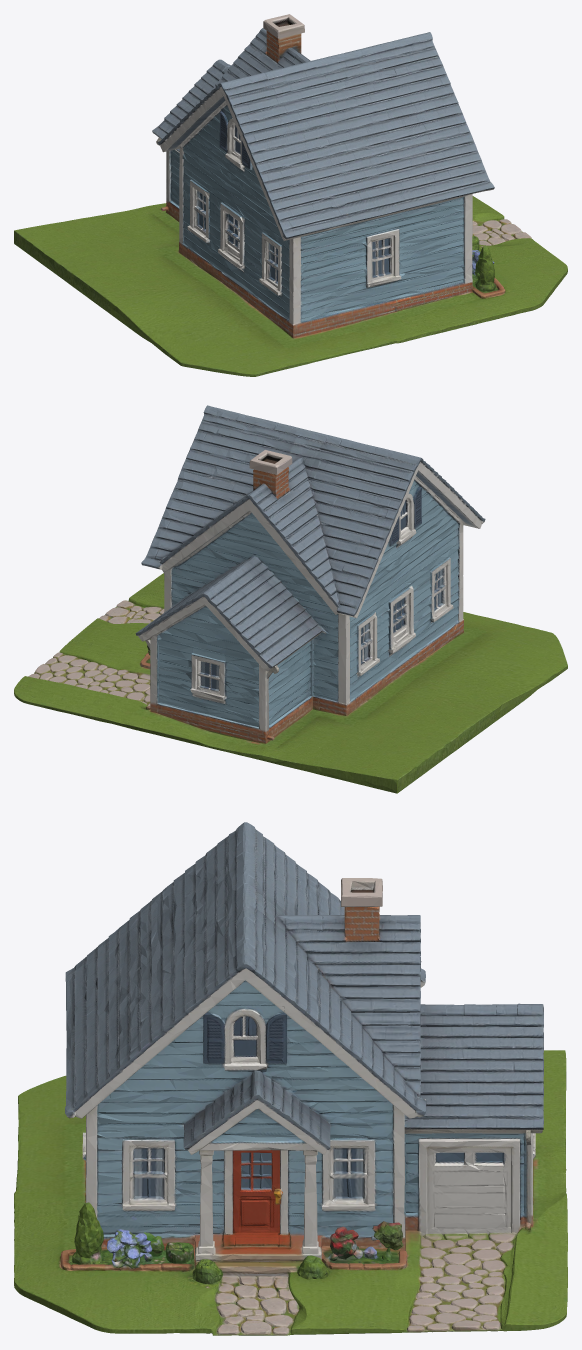
The model's file is house_h.glb.
The picture shows the model from 3 angles, top to bottom: view 1: azimuth 30°, elevation 25°; view 2: azimuth 150°, elevation 25°; view 3: azimuth 270°, elevation 25°; orthographic projection. The views are drawn at different scales.
Visible parts, largest first — view 1: tripo_node_0c7f8ef7-611f-4e4e-ba18-be2d918fef0e; view 2: tripo_node_0c7f8ef7-611f-4e4e-ba18-be2d918fef0e; view 3: tripo_node_0c7f8ef7-611f-4e4e-ba18-be2d918fef0e.
Boxes of the visible parts, box(x1,y1,x2,y2) form: tripo_node_0c7f8ef7-611f-4e4e-ba18-be2d918fef0e: box(14, 14, 567, 376); tripo_node_0c7f8ef7-611f-4e4e-ba18-be2d918fef0e: box(14, 405, 567, 793); tripo_node_0c7f8ef7-611f-4e4e-ba18-be2d918fef0e: box(14, 822, 567, 1335).
Bounding box in the file's own units: 1 × 0.5521 × 0.8757.
Materials: 1 (1 with a texture image).
